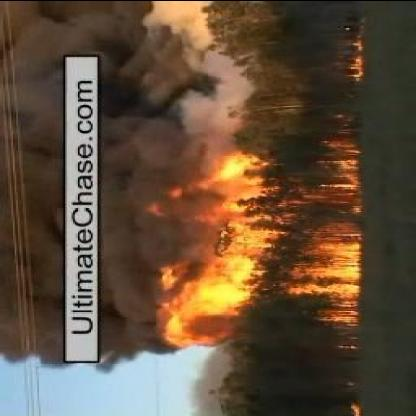-: (106, 25, 170, 351), (2, 115, 61, 361)
foggia-v2-map80-epoch100 - v1 4323: (317, 244, 361, 294)
